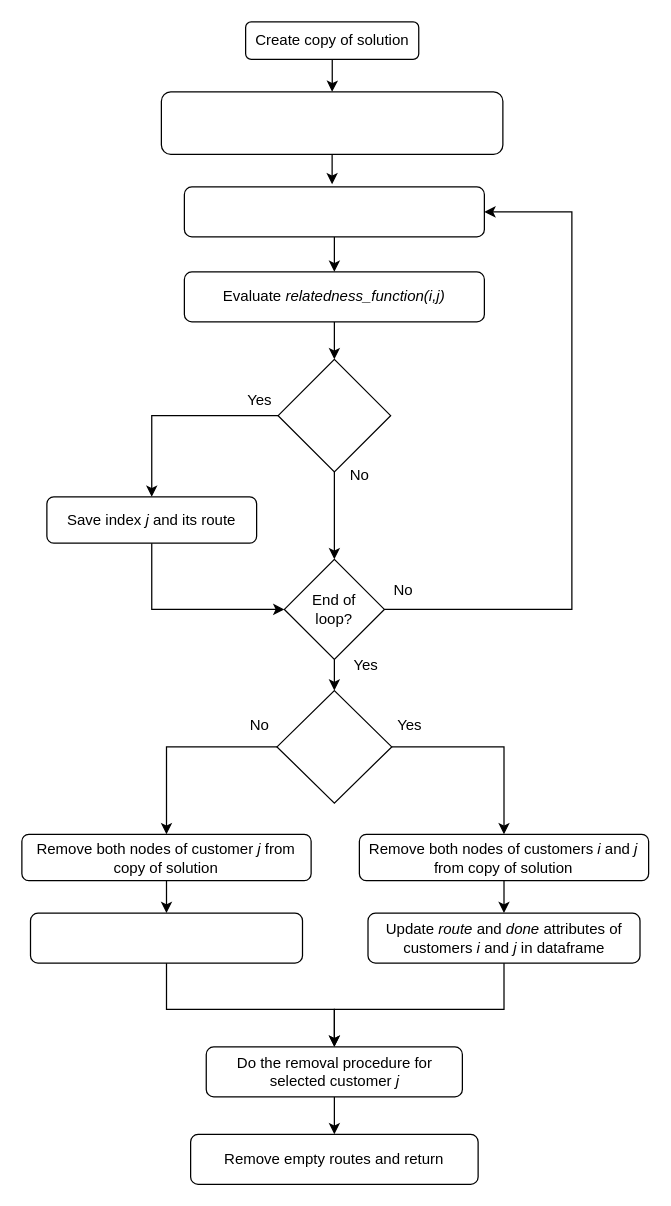
Some shapes in this 671 by 1206 pixel diagram are drawn without their labels. Here are the shapes that lost their labels. From the top down, the box of each, then its label:
(160, 91, 503, 154): Randomly select a seed customer i from list of planned customers
(183, 186, 484, 237): Loop over served customers j in solution
(277, 358, 391, 472): Obtained a new min?
(276, 689, 392, 803): was cust i planned?
(29, 912, 302, 963): Update route and done attributes of customer j in dataframe
